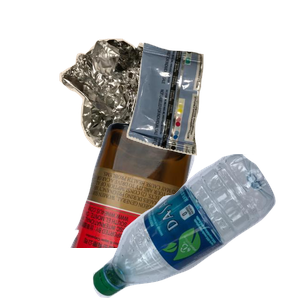glass: (68, 120, 255, 300)
metal: (57, 36, 241, 216)
plastic: (90, 154, 300, 300)
trash: (124, 40, 300, 188)
